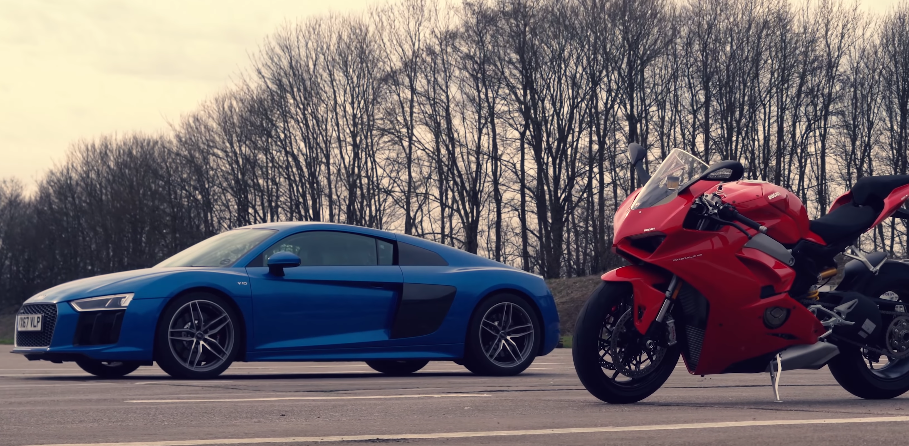car: (5, 219, 565, 411)
motorcycle: (569, 140, 909, 410)
